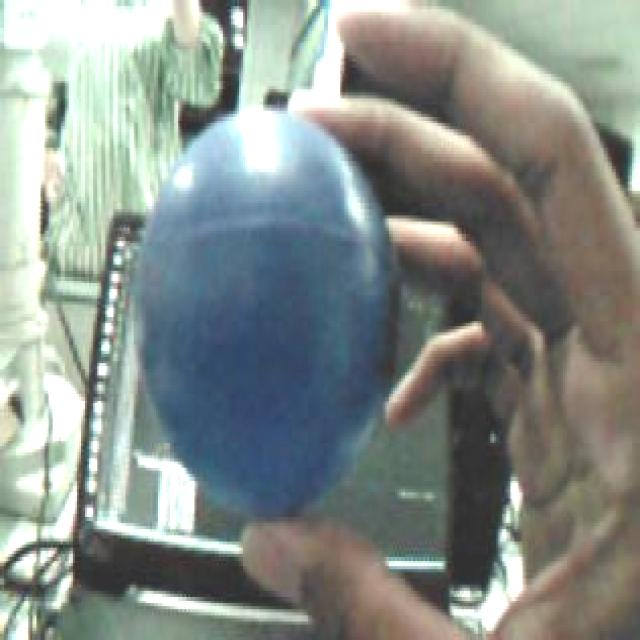BallPurple: (132, 108, 400, 520)
